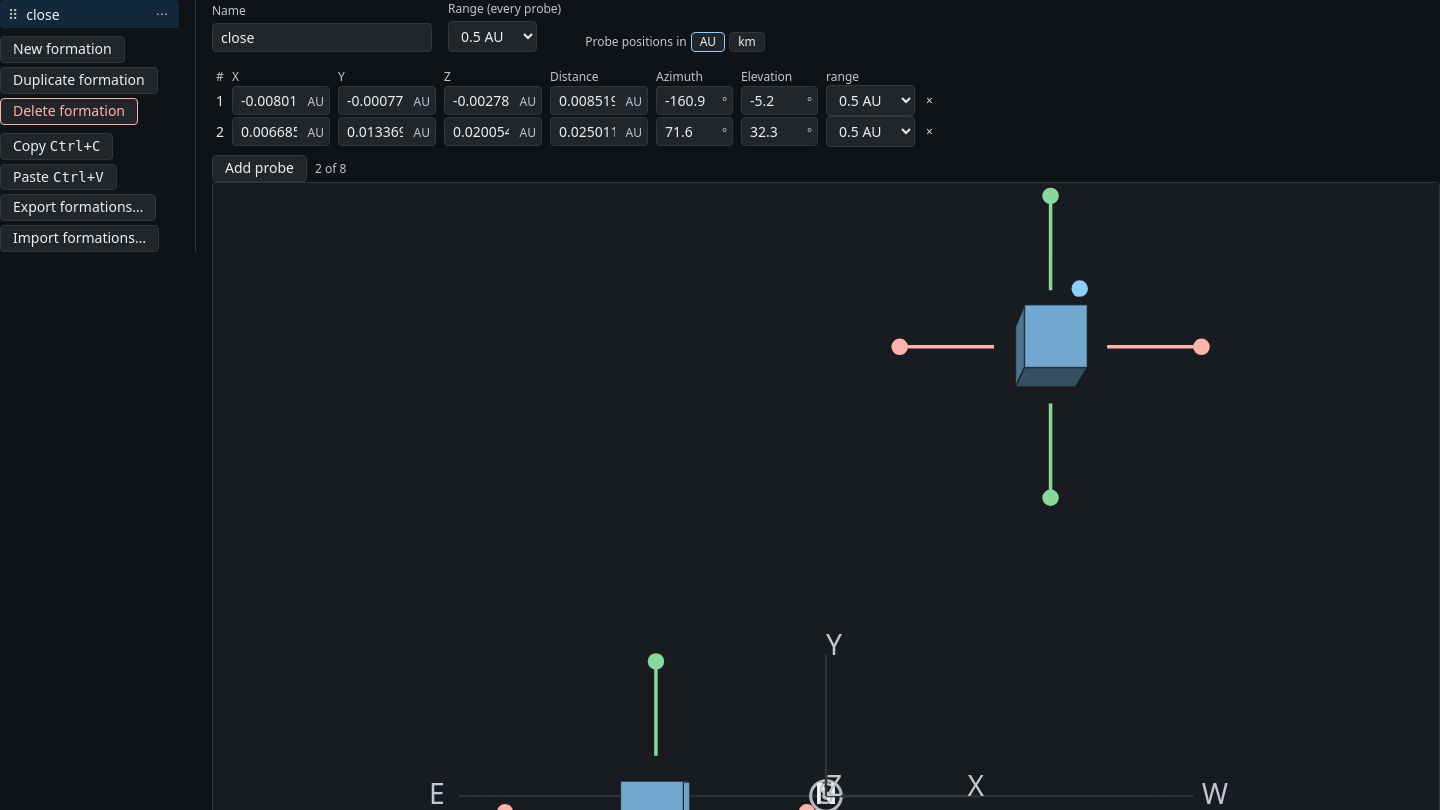
file sharing › cancelling the save dialog writes nothing
This screenshot has width=1440, height=810.
Expected: the field showing "close" is shown, x1=212 y1=23 x2=432 y2=52
Click the button "Export formations…" at (78, 208), box x1=0 y1=194 x2=156 y2=221
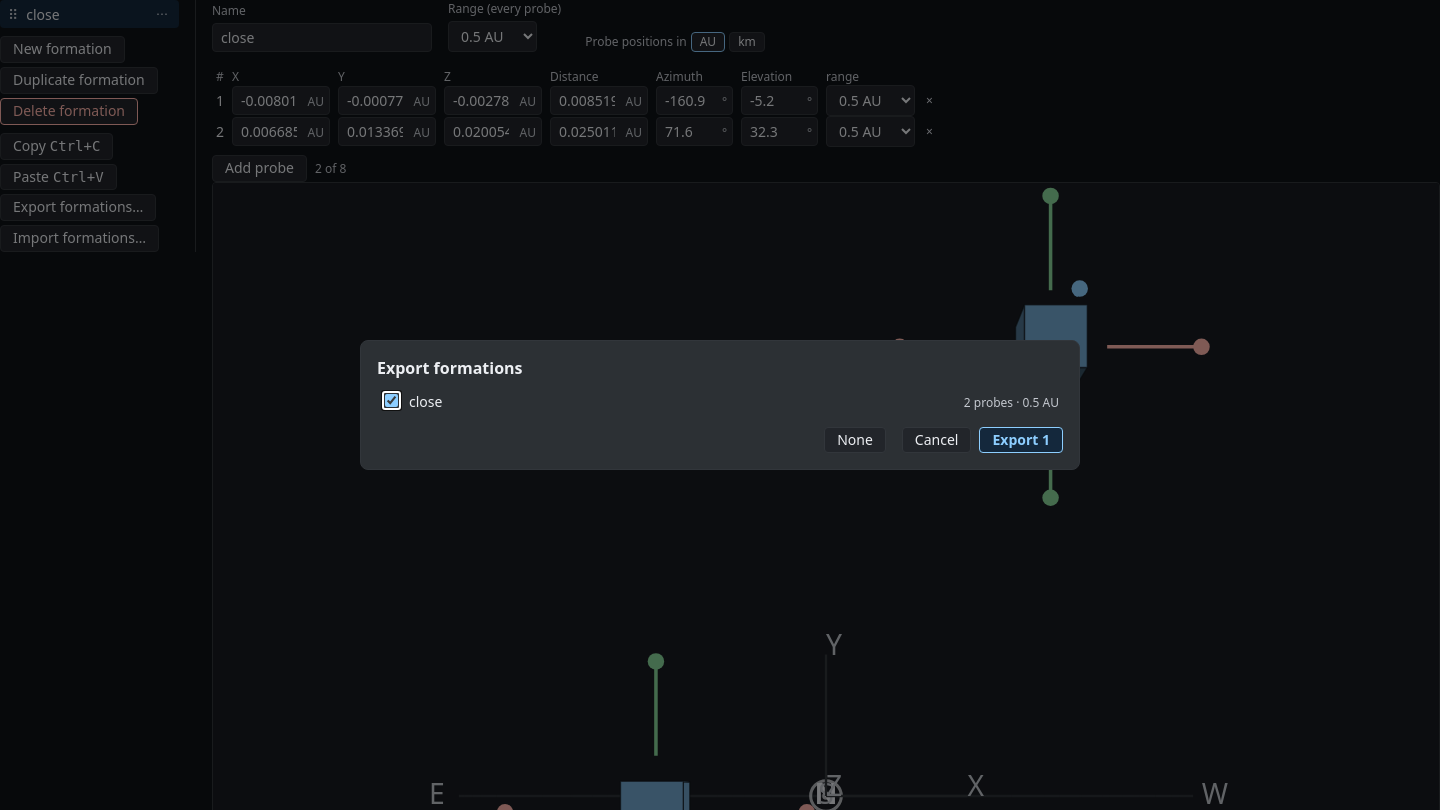
Click the button "Export 1" at (1021, 440), box x1=980 y1=427 x2=1063 y2=453
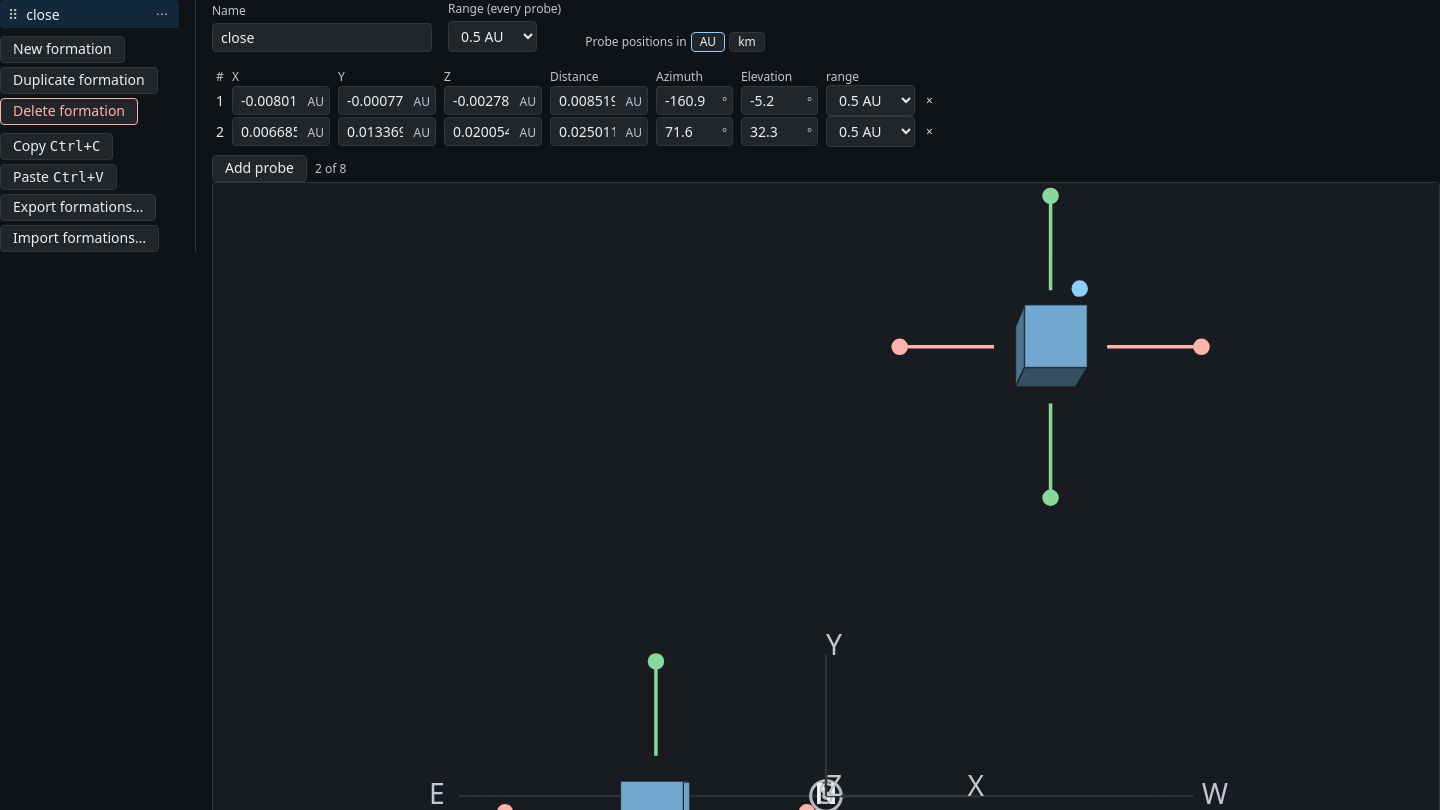
Expected: the element with test id "picker-backdrop" is gone
